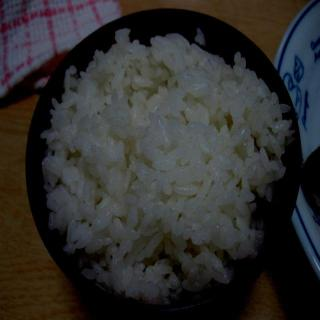Nasi: (41, 25, 295, 306)
